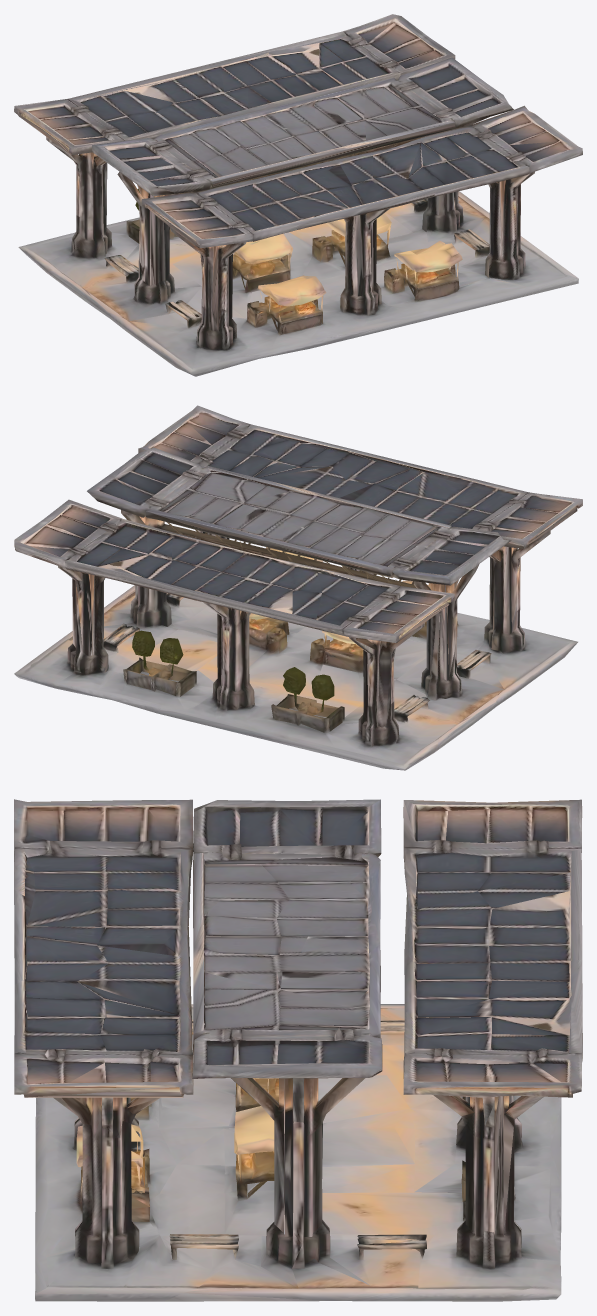
Rendered from marketArcade.glb.
3 renders of one model, top to bottom at view 1: azimuth 30°, elevation 25°; view 2: azimuth 150°, elevation 25°; view 3: azimuth 270°, elevation 25°, orthographic. The views are drawn at different scales.
Parts seen in each view (by area): view 1: marketArcade; view 2: marketArcade; view 3: marketArcade.
Part boxes in pixels (left/top/right/bottom): marketArcade: left=14, top=14, right=582, bottom=376; marketArcade: left=14, top=405, right=582, bottom=770; marketArcade: left=14, top=799, right=582, bottom=1301.
Size of the model in its own units: 28 by 10.09 by 23.24.
Materials: 1 (1 with a texture image).
